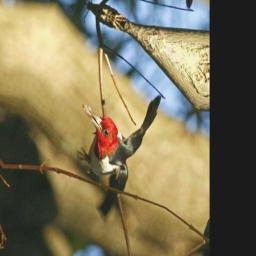Woodpecker: (53, 53, 171, 232)
